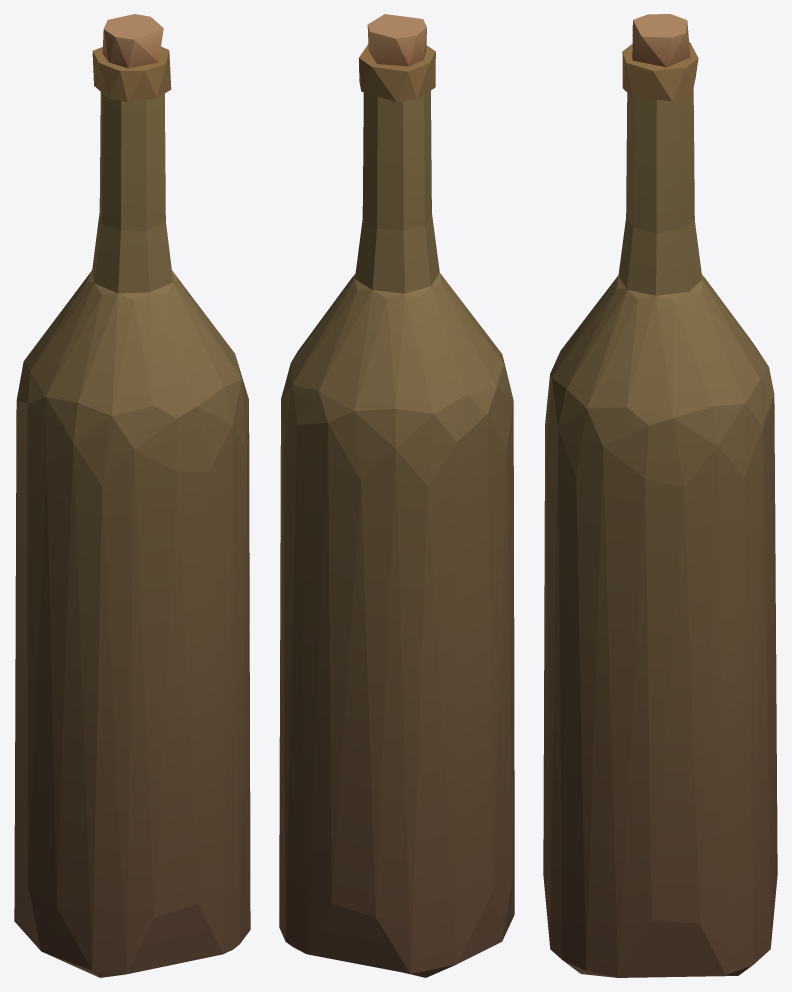
Rendered from SM_Bottle_01.fbx.
3 views of the same model, side by side, from view 1: azimuth 30°, elevation 25°; view 2: azimuth 150°, elevation 25°; view 3: azimuth 270°, elevation 25° (orthographic).
Visible parts, largest first — view 1: SM_Bottle_01; view 2: SM_Bottle_01; view 3: SM_Bottle_01.
Part boxes in pixels (x1=…): SM_Bottle_01: x1=14, y1=14, x2=250, y2=977; SM_Bottle_01: x1=279, y1=14, x2=514, y2=977; SM_Bottle_01: x1=543, y1=14, x2=777, y2=977.
Size of the model in its own units: 9.94 by 42.95 by 9.94.
